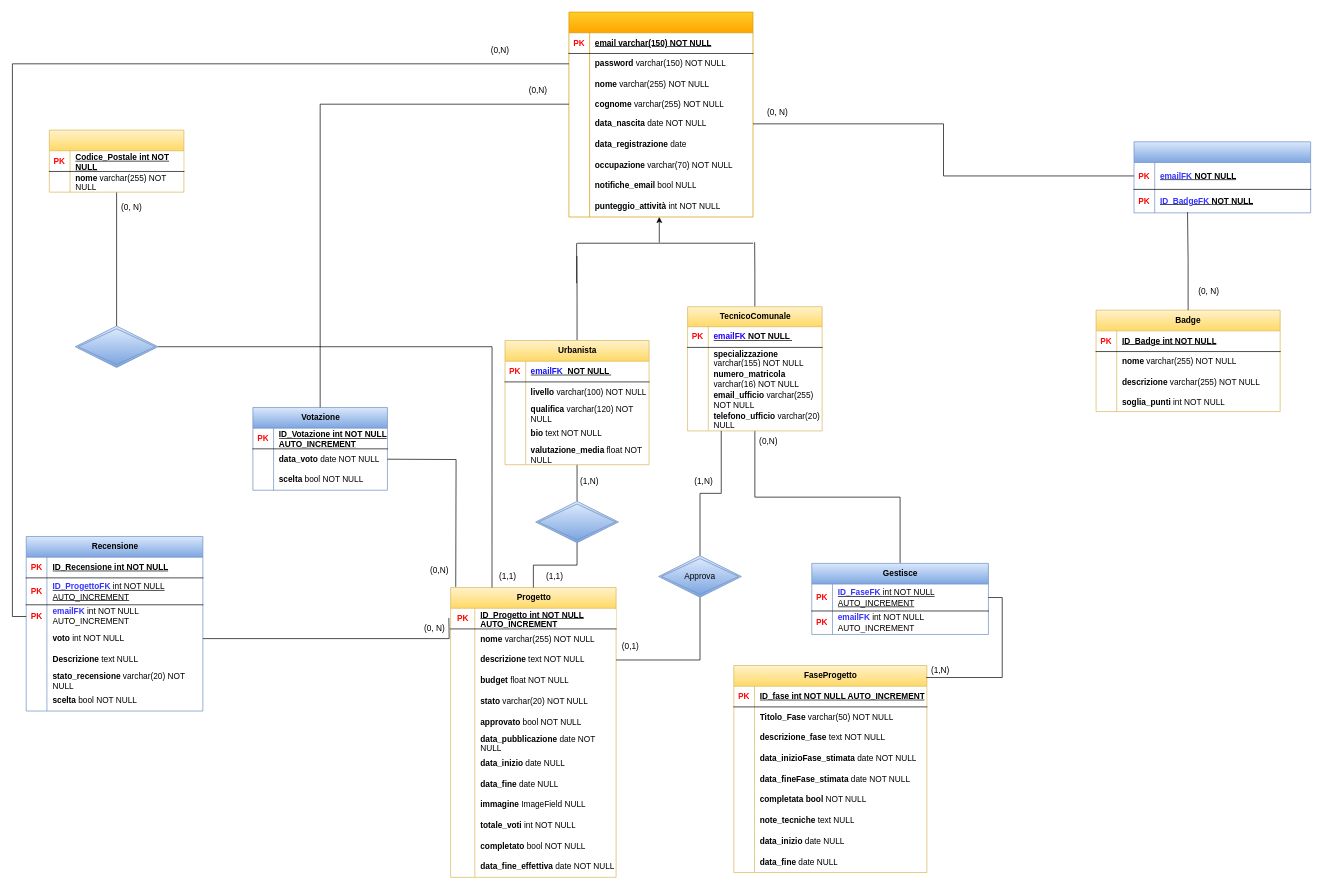
The diagram is 1323 pixels wide and 889 high, and some of its shapes have lost their labels. The shapes that lost their labels are listed below. From the top down, each one's box as (x1, y1, x2, y2) in pixels, then its label:
(568, 11, 753, 217): Cittadino
(49, 129, 184, 192): Municipalita
(1133, 141, 1311, 213): Ottiene
(75, 325, 158, 367): Coinvolge
(535, 501, 618, 543): PROPONE
